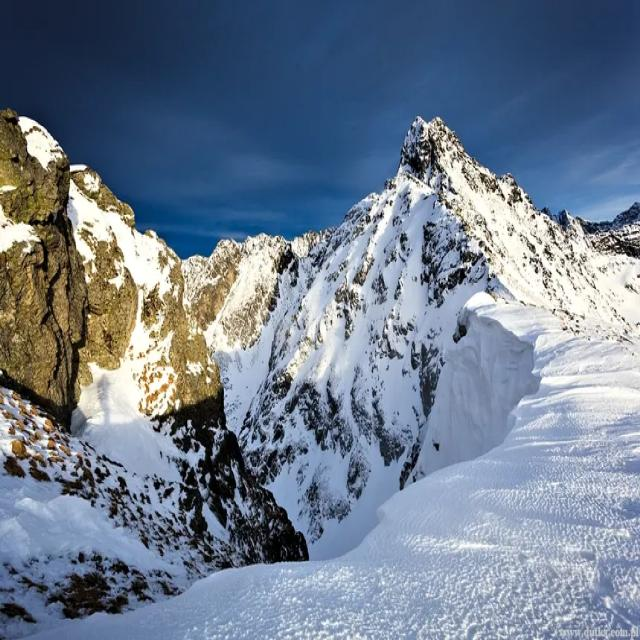Swinica: (353, 41, 506, 205)
